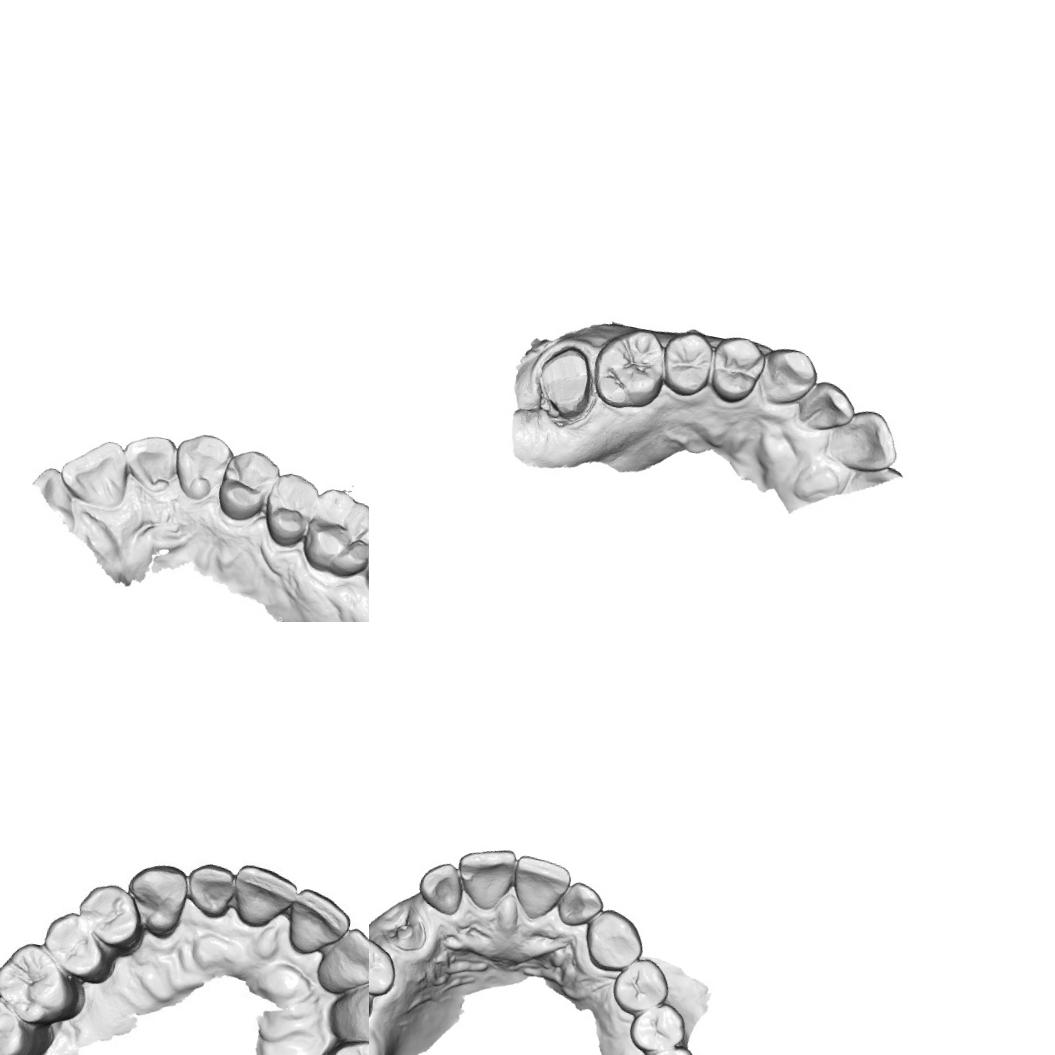canine: (122, 858, 192, 946), (167, 427, 238, 507), (579, 904, 650, 976), (754, 342, 822, 412), (320, 964, 369, 1052)
crown: (528, 340, 606, 432)
incisor: (54, 430, 136, 512), (225, 860, 304, 941), (824, 402, 906, 477), (449, 837, 522, 913), (283, 886, 351, 960), (506, 851, 573, 924), (309, 925, 369, 1003), (177, 857, 245, 925), (118, 428, 184, 496), (796, 375, 860, 438), (413, 856, 468, 916), (555, 878, 608, 932)
molar: (0, 933, 95, 1033), (586, 320, 673, 418), (299, 482, 369, 583), (0, 984, 67, 1055), (631, 1038, 705, 1055)
premolar: (62, 874, 154, 966), (34, 904, 126, 995), (213, 443, 284, 527), (256, 468, 322, 553), (704, 332, 770, 408), (656, 324, 718, 399), (607, 952, 674, 1021), (625, 996, 691, 1055), (369, 933, 402, 1000), (306, 1026, 369, 1055)
